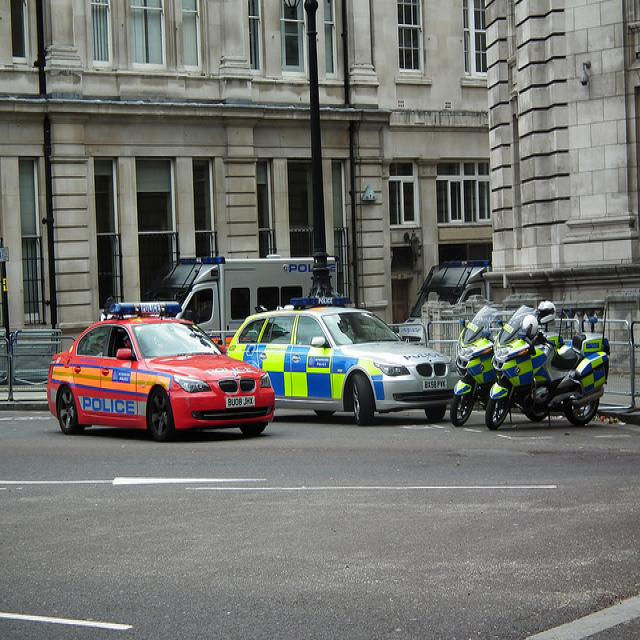motor: (486, 305, 611, 431), (448, 303, 496, 425)
